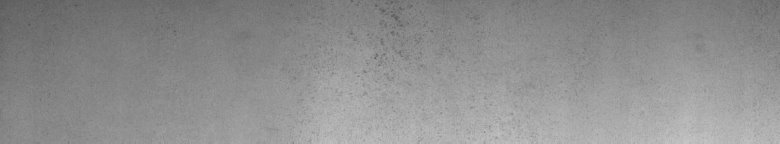ib: (350, 4, 416, 80)
